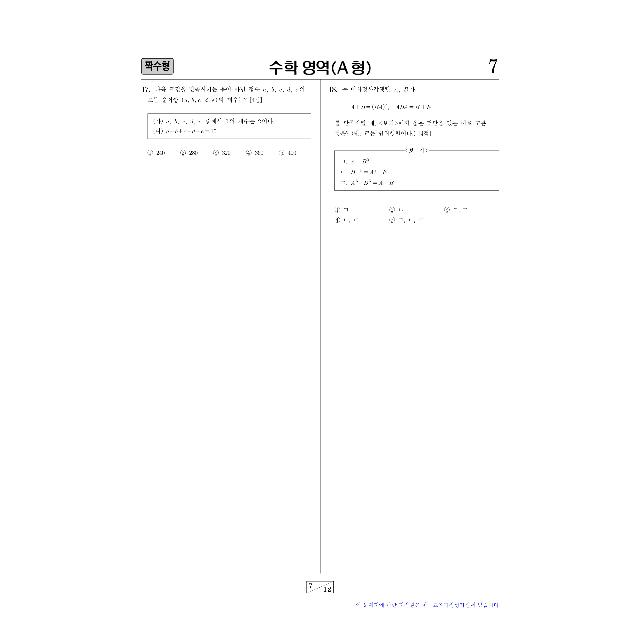multiple: (324, 82, 512, 234), (137, 81, 316, 163)
